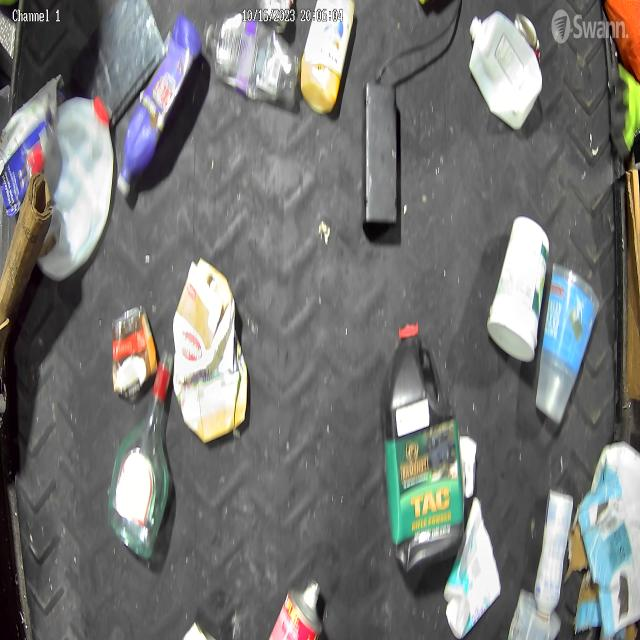can: (111, 304, 159, 403), (514, 12, 539, 48)
milk_jug: (35, 95, 114, 281), (469, 9, 543, 131)
non_white_jug: (382, 320, 466, 576), (117, 13, 202, 199), (300, 0, 356, 113)
plastic_bottle: (204, 12, 300, 108)
